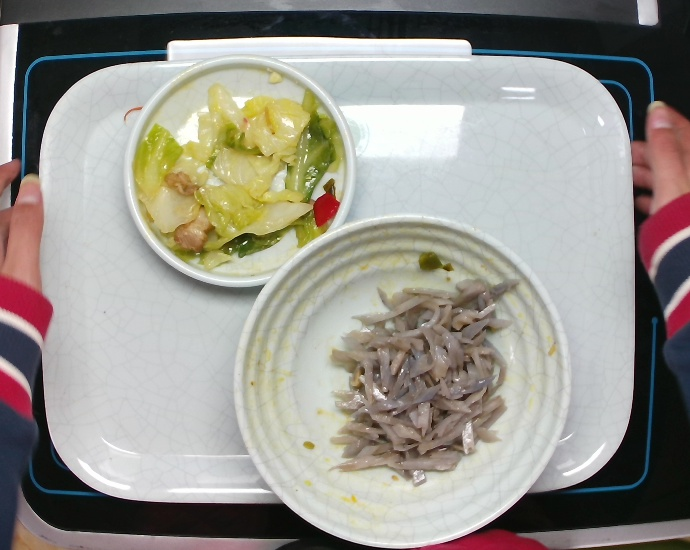JYsf-Da_Tang_Wan: (215, 205, 578, 550)
JYsf-Xiao_Yuan_Pan: (123, 51, 361, 302)
